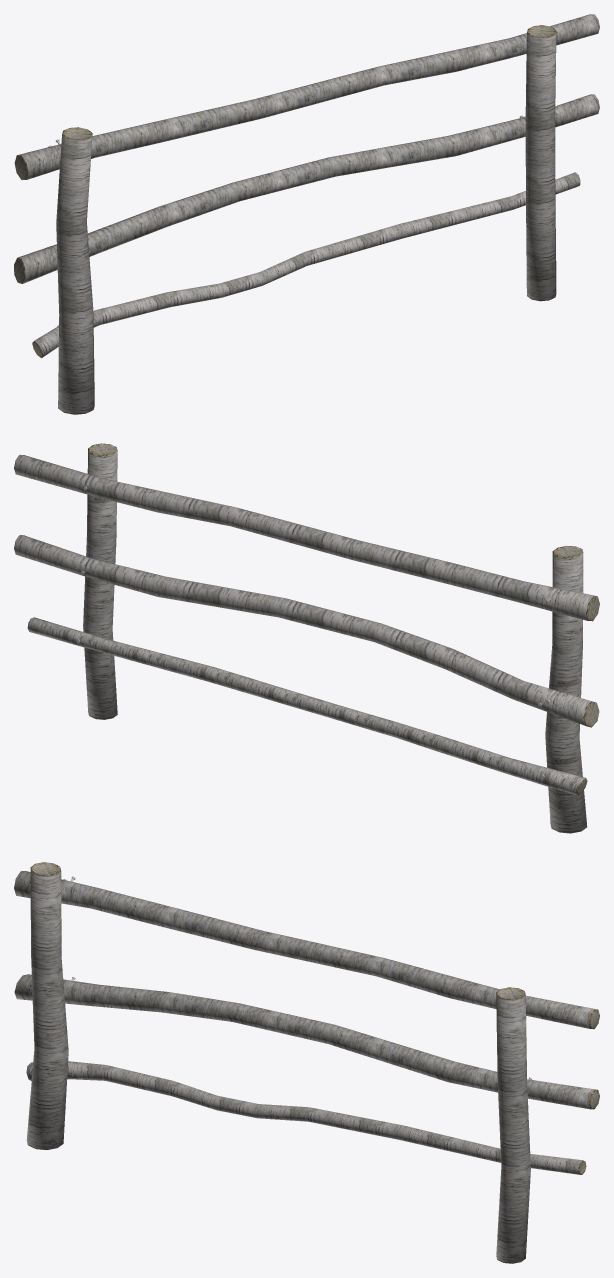
The model's file is Birch_tree_fence_A.fbx.
The picture shows the model from 3 angles, top to bottom: view 1: azimuth 30°, elevation 25°; view 2: azimuth 150°, elevation 25°; view 3: azimuth 330°, elevation 25°; orthographic projection.
Parts seen in each view (by area): view 1: Birch_tree_fence_A; view 2: Birch_tree_fence_A; view 3: Birch_tree_fence_A.
Boxes of the visible parts, left/top/right/bottom form: Birch_tree_fence_A: left=14, top=14, right=599, bottom=414; Birch_tree_fence_A: left=14, top=443, right=599, bottom=833; Birch_tree_fence_A: left=14, top=862, right=599, bottom=1263.
Size of what is drawn, in the model's own units: 2.47 by 1.13 by 0.2525.
